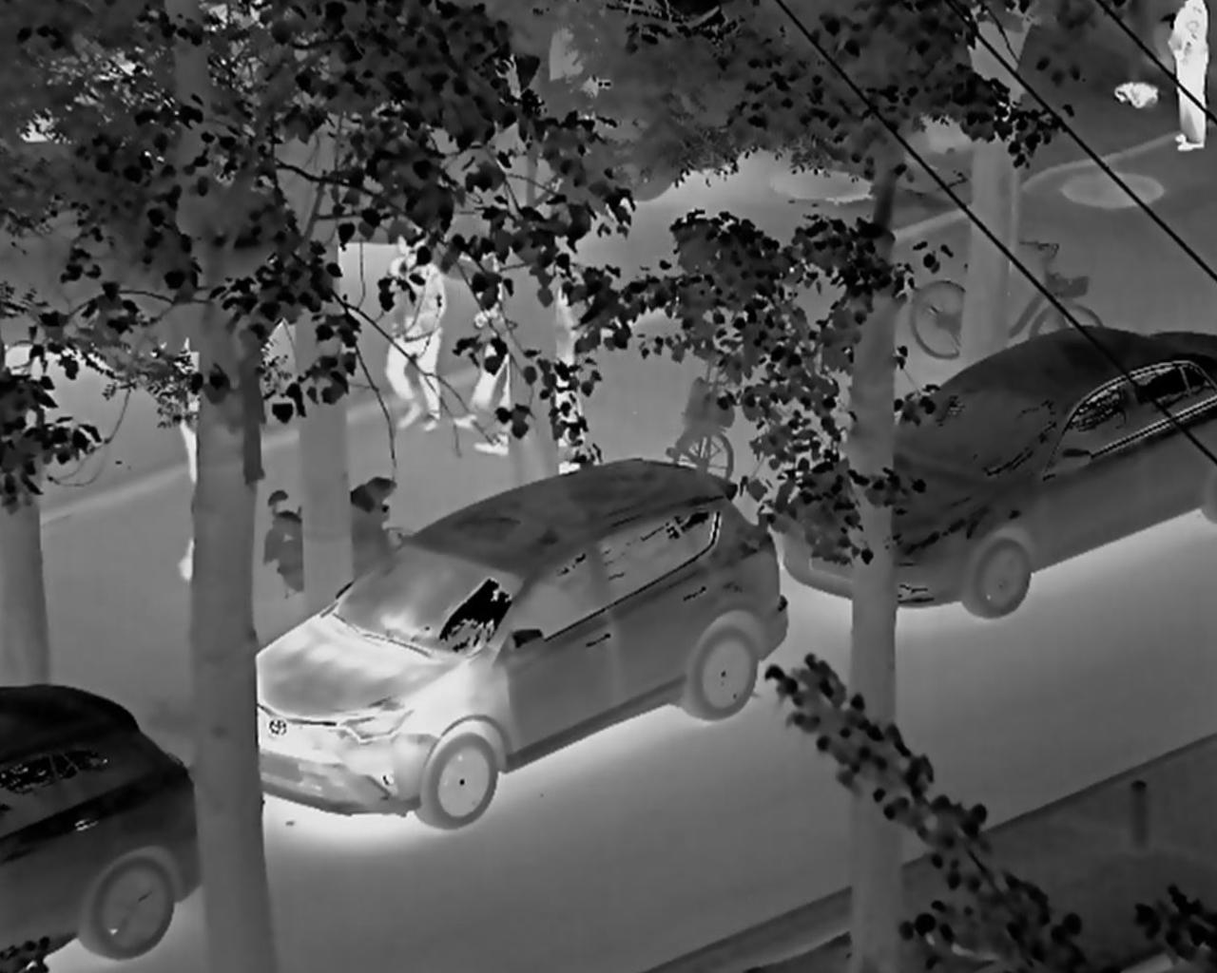person: (372, 195, 456, 429)
